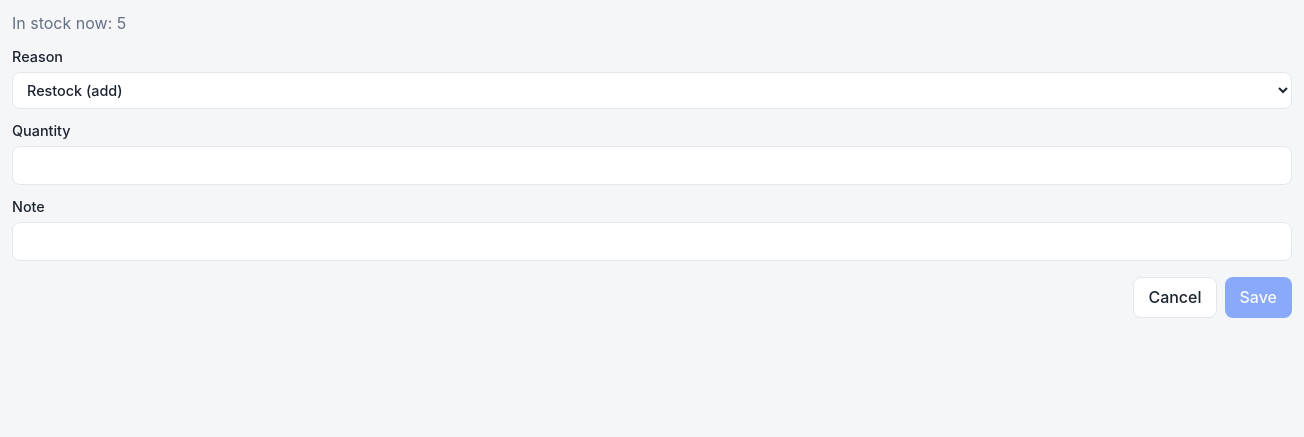
Test: StockAdjustForm › shows the message the API refused with
In the number field labelled "Quantity": (652, 165) [12, 146, 1292, 185], type "1"
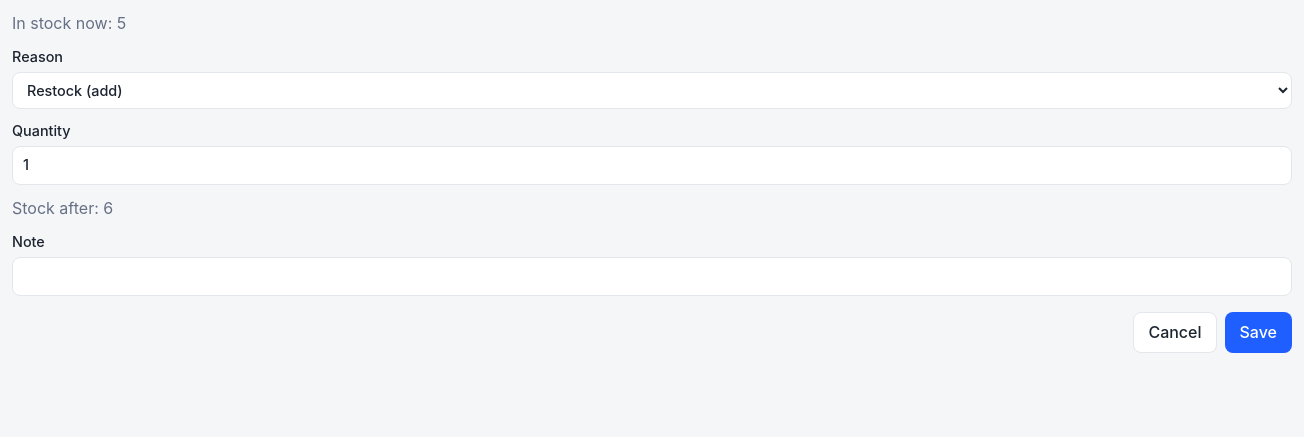
Click the button "Save": (1258, 332) [1224, 312, 1292, 353]
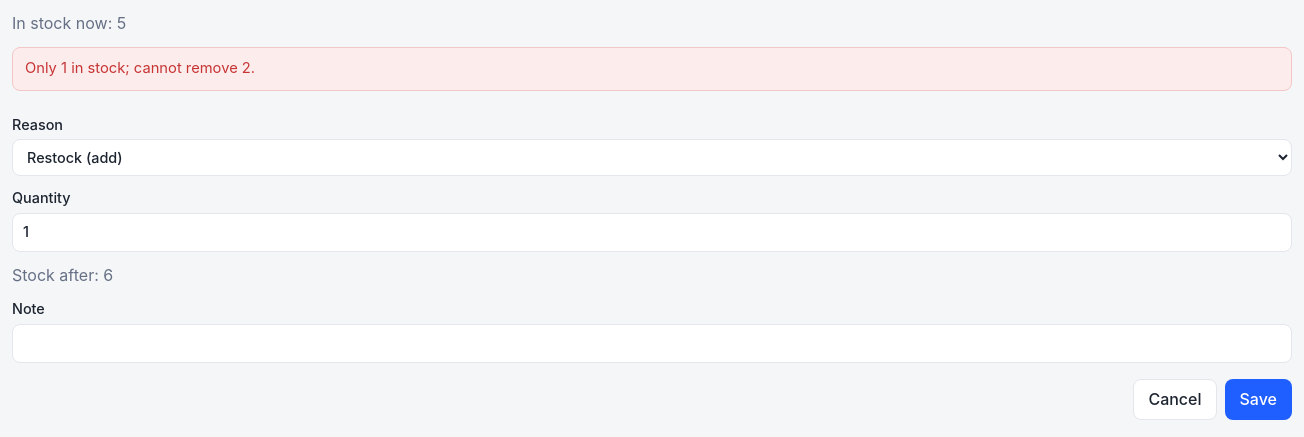
Expected: the message reads "Only 1 in stock; cannot remove 2.", [25, 59, 255, 77]
